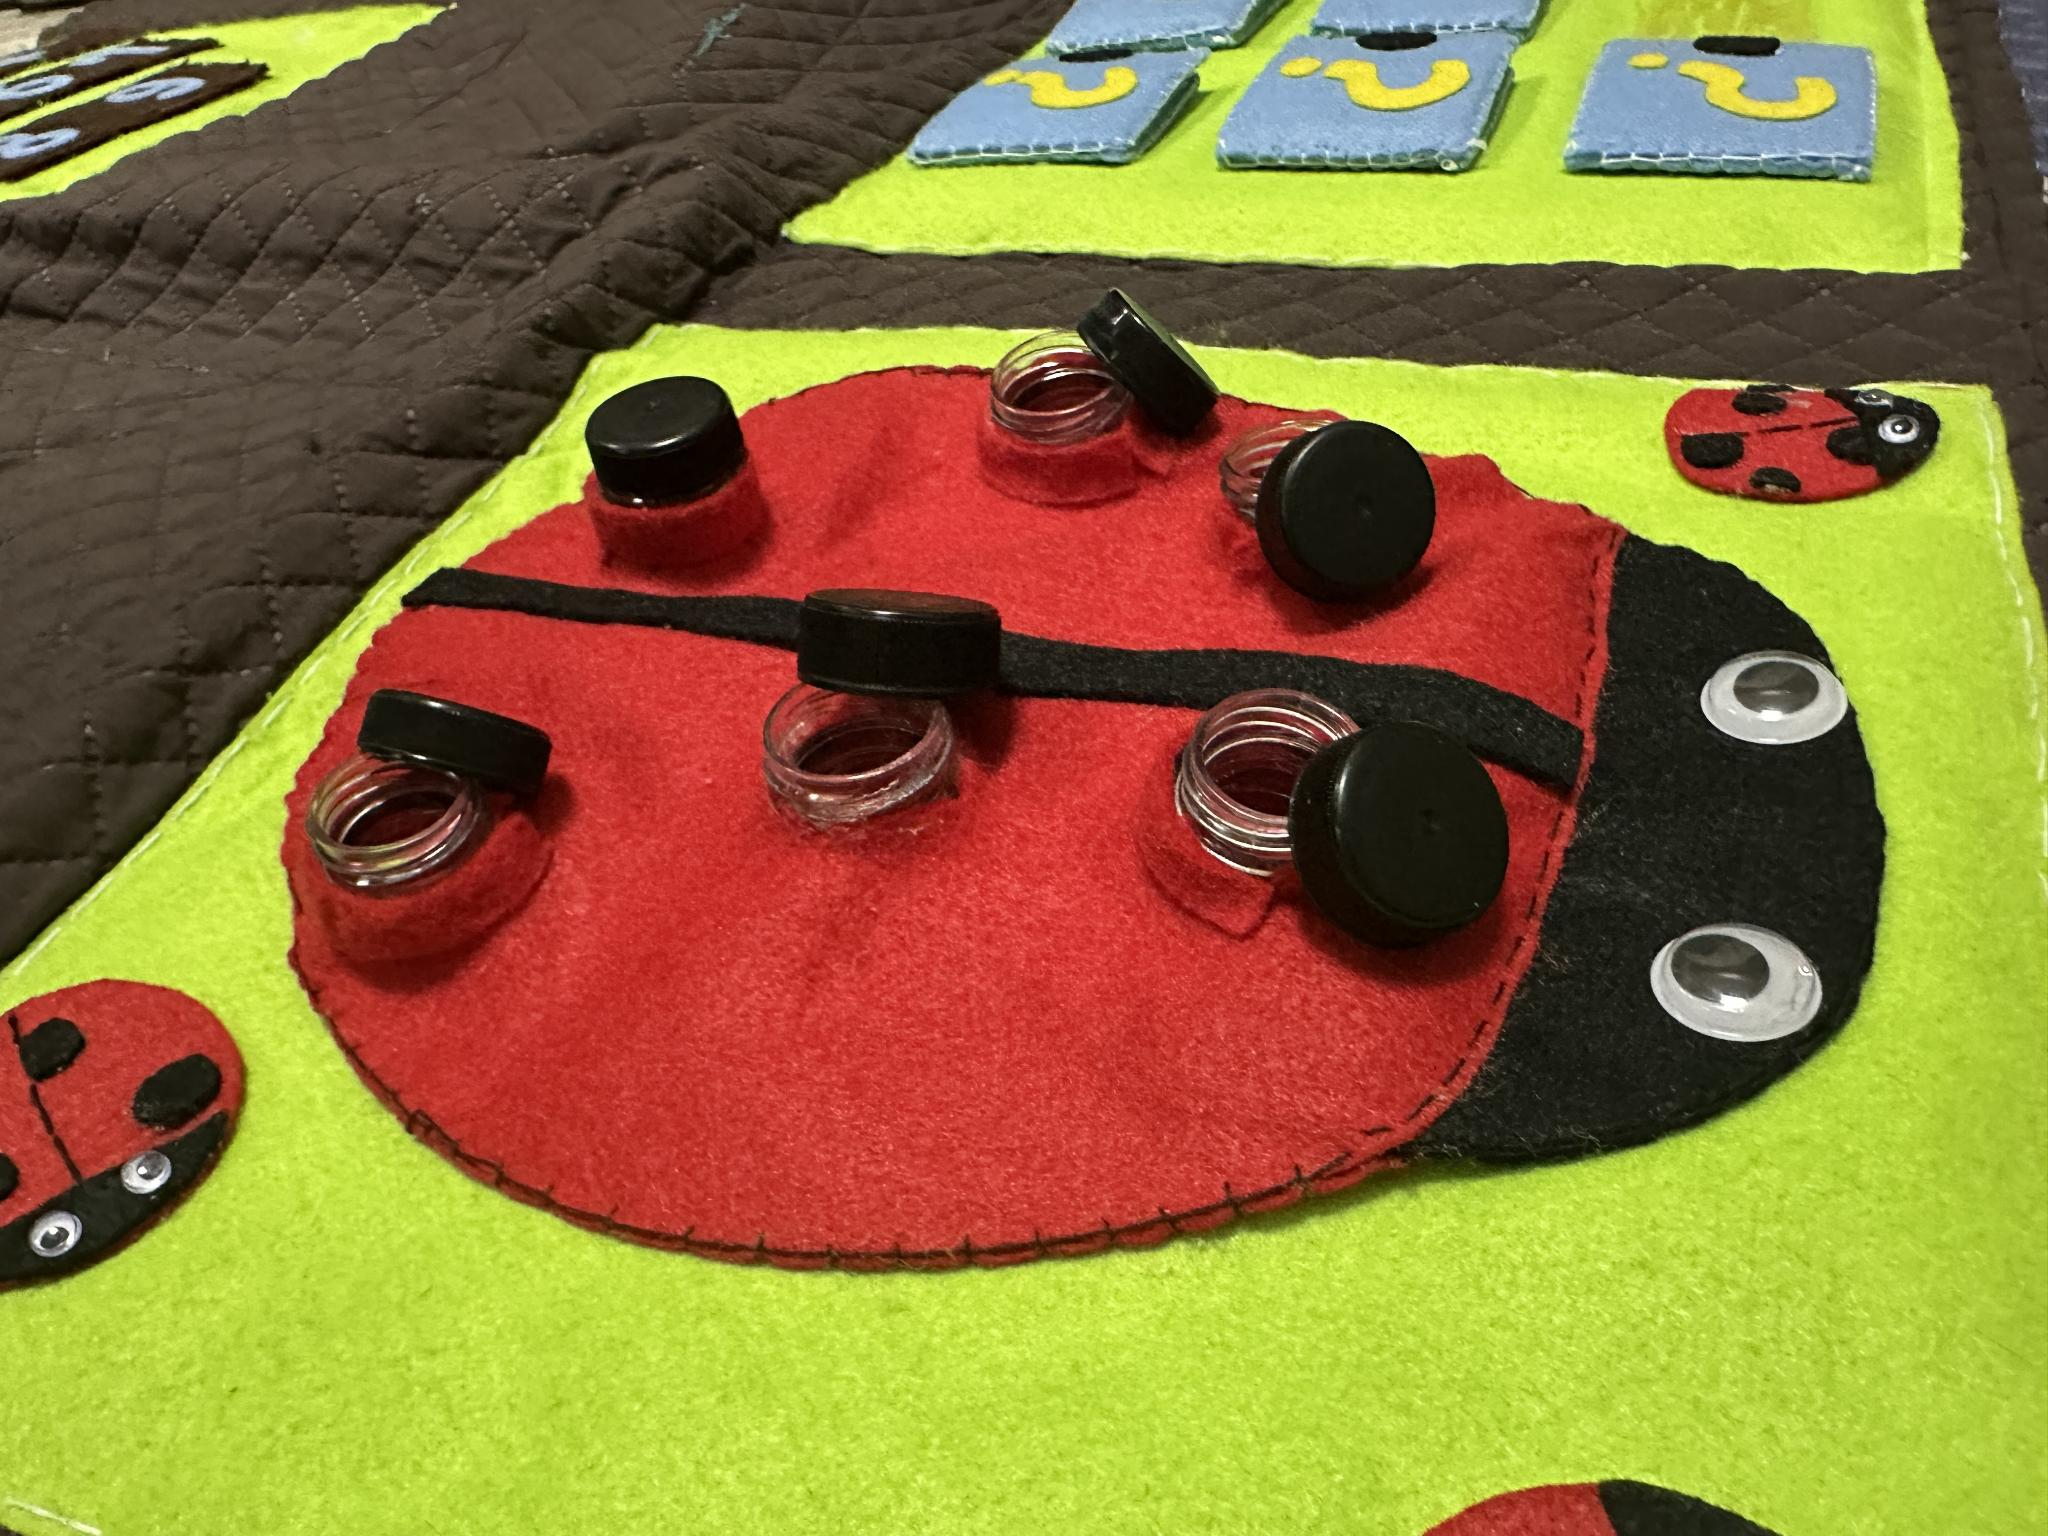cap_ng: (1145, 679, 1516, 957), (295, 681, 561, 981), (737, 587, 1026, 849), (976, 287, 1222, 499), (1224, 407, 1442, 615)
cap_ok: (576, 361, 779, 597)
